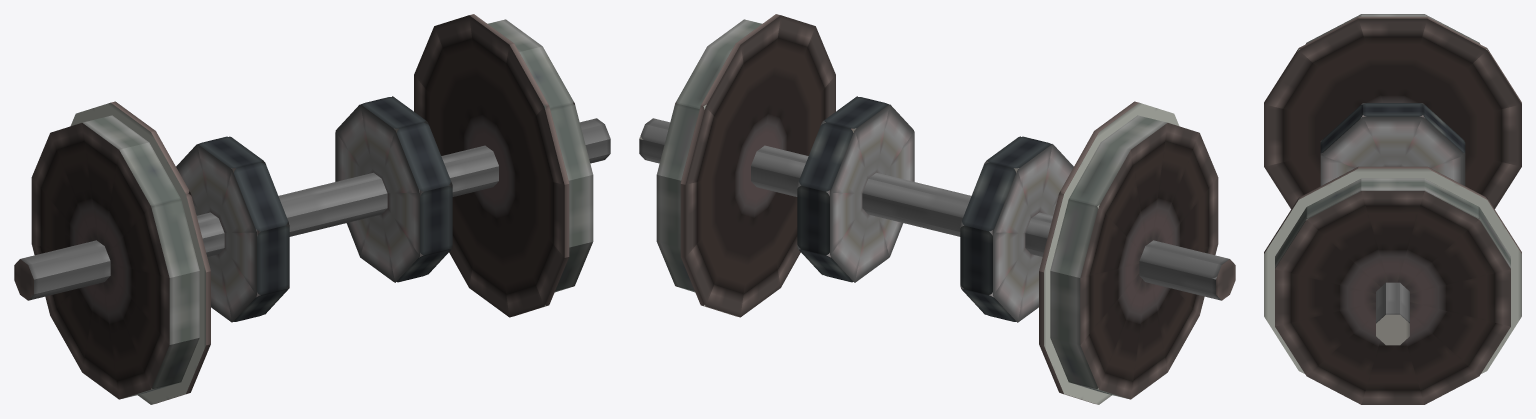
The model's file is cw2_wheel.obj.
3 views of the same model, side by side, from view 1: azimuth 30°, elevation 25°; view 2: azimuth 150°, elevation 25°; view 3: azimuth 270°, elevation 25° (orthographic). The views are drawn at different scales.
Visible parts, largest first — view 1: cylinder; view 2: cylinder; view 3: cylinder.
Part boxes in pixels (x1,y1,x2,y2): cylinder: (14,14,610,404); cylinder: (639,14,1235,404); cylinder: (1264,14,1521,404).
Bounding box in the file's own units: 2.21 × 1 × 1.
